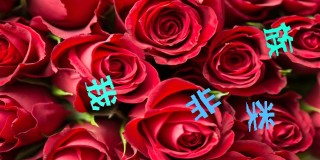我: (85, 74, 117, 110)
族: (262, 22, 293, 57)
类: (245, 99, 275, 132)
非: (185, 87, 221, 121)
